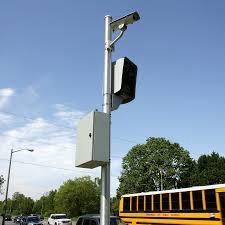Speed-Camera: (108, 8, 153, 108)
